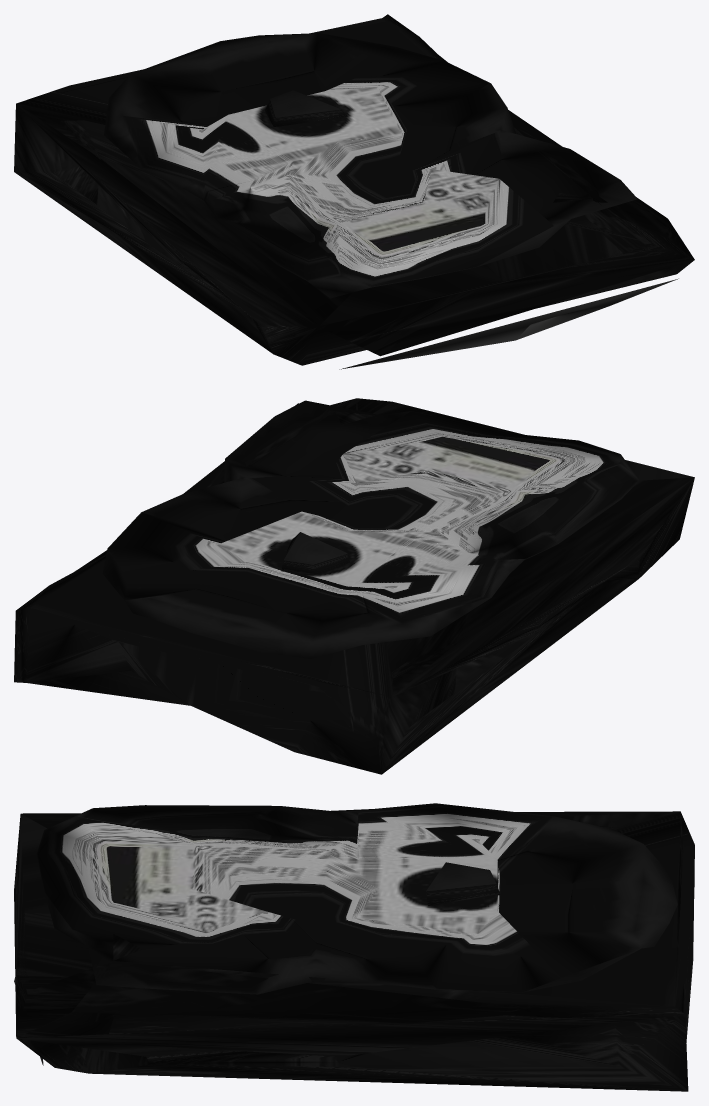
The model's file is hard_drive.glb.
3 views of the same model, one above another, from view 1: azimuth 30°, elevation 25°; view 2: azimuth 150°, elevation 25°; view 3: azimuth 270°, elevation 25° (orthographic). The views are drawn at different scales.
Visible parts, largest first — view 1: hard_drive; view 2: hard_drive; view 3: hard_drive.
Boxes of the visible parts, bbox=[...] form: hard_drive: bbox=[14, 14, 694, 369]; hard_drive: bbox=[14, 398, 694, 774]; hard_drive: bbox=[14, 803, 694, 1091].
Size of the model in its own units: 0.2214 by 0.0579 by 0.3188.
4 materials, 3 textured.
